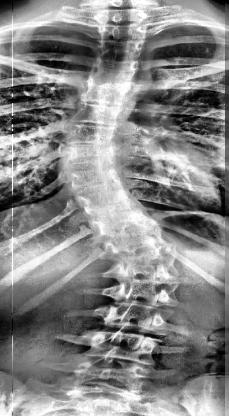Vertebrae: (71, 360, 149, 390), (91, 333, 159, 363), (74, 189, 144, 217), (109, 233, 178, 261), (101, 306, 165, 334), (115, 256, 180, 283), (112, 282, 178, 308), (78, 77, 138, 103), (92, 214, 160, 236), (86, 57, 148, 81), (62, 144, 119, 168), (66, 166, 121, 190), (66, 122, 120, 146), (71, 100, 121, 124), (92, 37, 146, 57)
